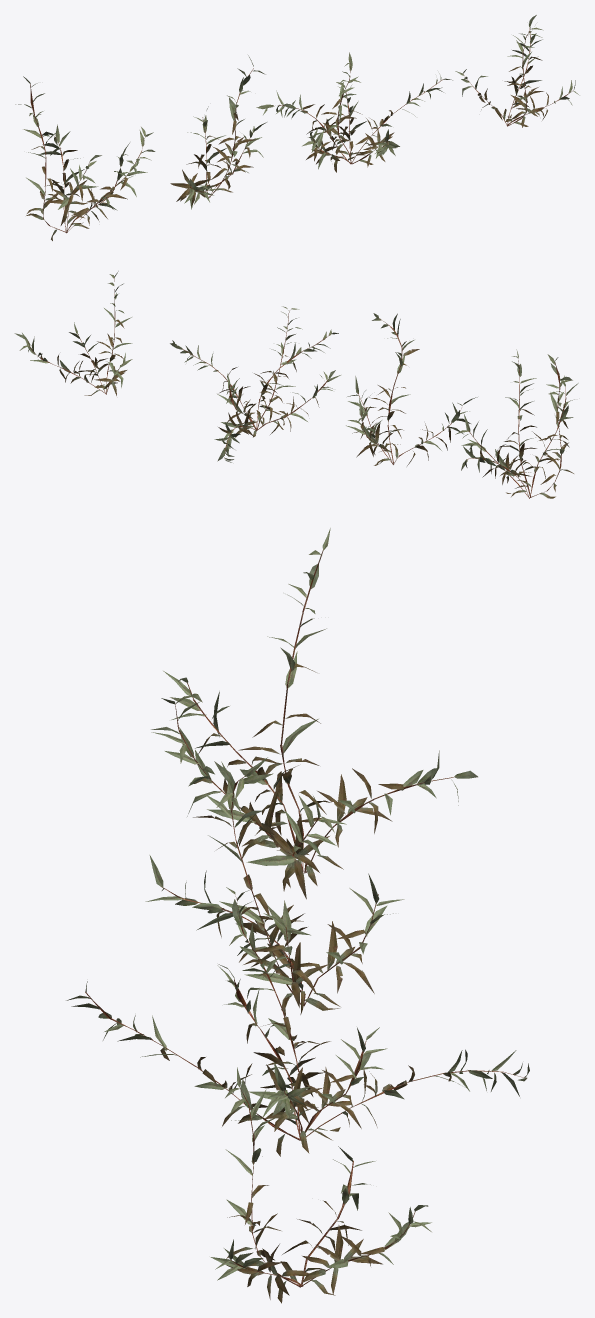
Rendered from ph_shrub_02_lod1.glb.
3 renders of one model, top to bottom at view 1: azimuth 30°, elevation 25°; view 2: azimuth 150°, elevation 25°; view 3: azimuth 270°, elevation 25°, orthographic. The views are drawn at different scales.
Parts seen in each view (by area): view 1: ph_shrub_02_lod1; view 2: ph_shrub_02_lod1; view 3: ph_shrub_02_lod1.
Part boxes in pixels (x1,y1,x2,y2): ph_shrub_02_lod1: [15, 15, 579, 240]; ph_shrub_02_lod1: [14, 271, 578, 498]; ph_shrub_02_lod1: [66, 528, 529, 1303].
Size of the model in its own units: 6.03 by 1.69 by 2.28.
1 material, 1 textured.
